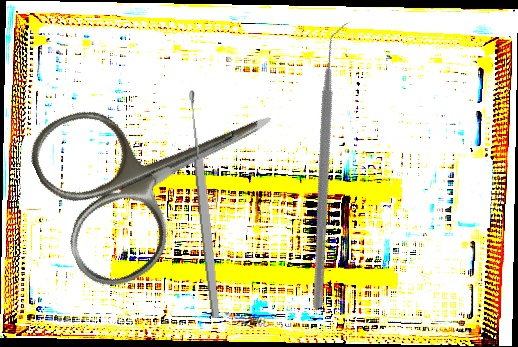Chopper: (201, 20, 465, 311)
Iris Scissors: (19, 38, 309, 300)
Surgical Spoon: (185, 89, 223, 320)
